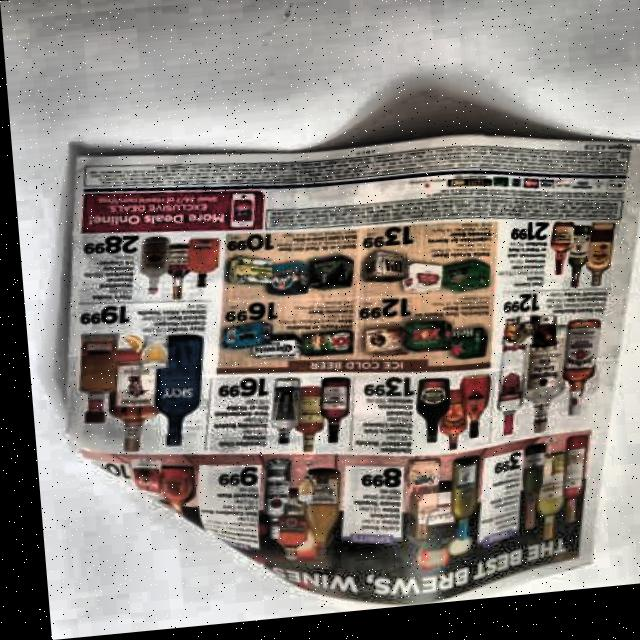paper: (37, 99, 640, 638)
